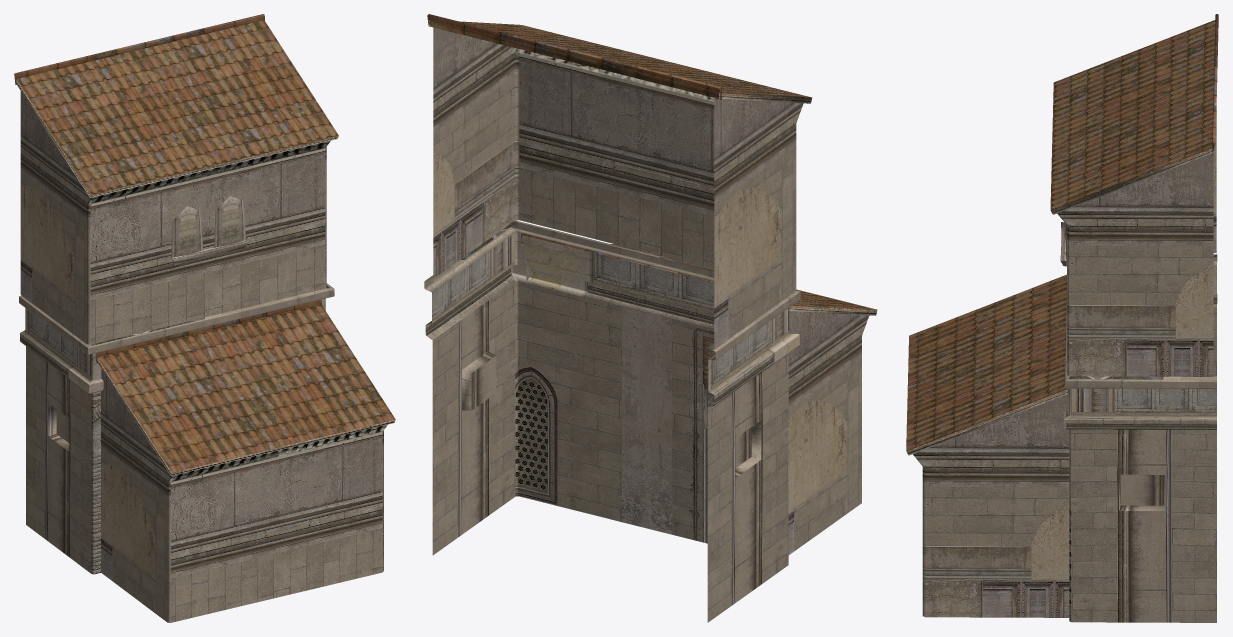
File: .Basic1.fbx
The picture shows the model from 3 angles, left to right: view 1: azimuth 30°, elevation 25°; view 2: azimuth 150°, elevation 25°; view 3: azimuth 270°, elevation 25°; orthographic projection. The views are drawn at different scales.
Parts seen in each view (by area): view 1: LV_Spechia_City_PalaceWall05_SM_SMK; view 2: LV_Spechia_City_PalaceWall05_SM_SMK; view 3: LV_Spechia_City_PalaceWall05_SM_SMK.
Part boxes in pixels (left/top/right/bottom): LV_Spechia_City_PalaceWall05_SM_SMK: left=14, top=14, right=395, bottom=622; LV_Spechia_City_PalaceWall05_SM_SMK: left=424, top=14, right=877, bottom=622; LV_Spechia_City_PalaceWall05_SM_SMK: left=906, top=14, right=1218, bottom=622.
Size of the model in its own units: 2.3 by 3.98 by 2.34.
